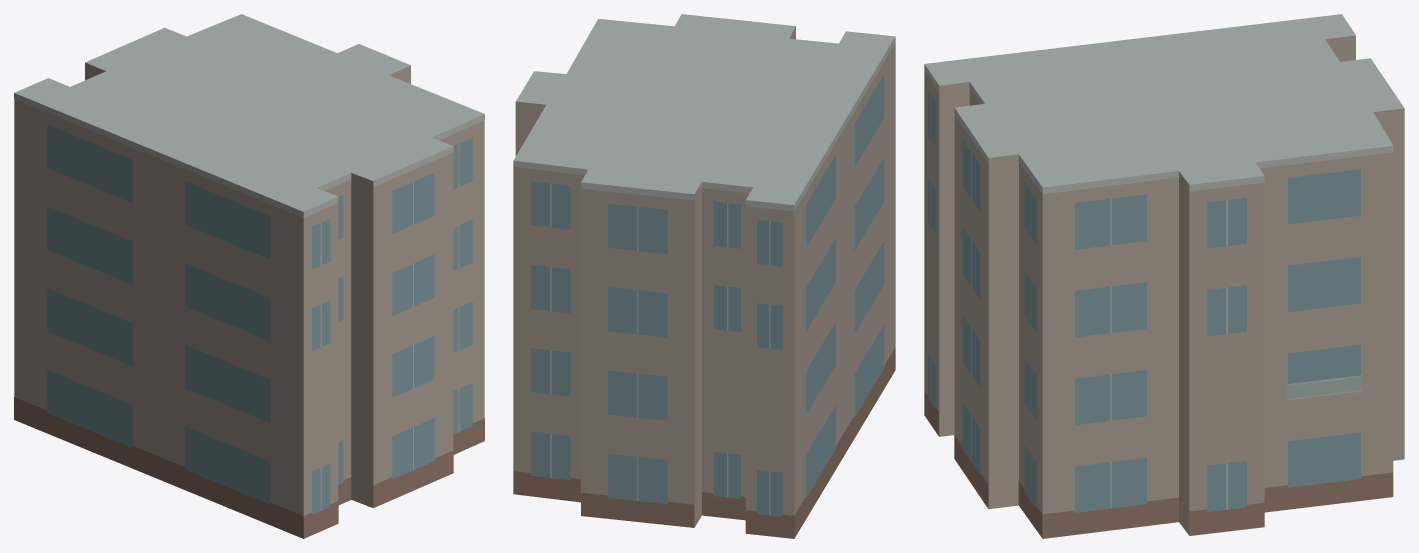
Rendered from survey-upis-32751383.glb.
The picture shows the model from 3 angles, left to right: view 1: azimuth 30°, elevation 25°; view 2: azimuth 150°, elevation 25°; view 3: azimuth 270°, elevation 25°; orthographic projection. The views are drawn at different scales.
Visible parts, largest first — view 1: survey-upis-32751383.tmp; view 2: survey-upis-32751383.tmp; view 3: survey-upis-32751383.tmp.
Boxes of the visible parts, x1,y1,x2,y2 form: survey-upis-32751383.tmp: (14, 14, 484, 538); survey-upis-32751383.tmp: (513, 14, 895, 538); survey-upis-32751383.tmp: (924, 14, 1404, 538).
Bounding box in the file's own units: 13.69 × 12.9 × 16.
